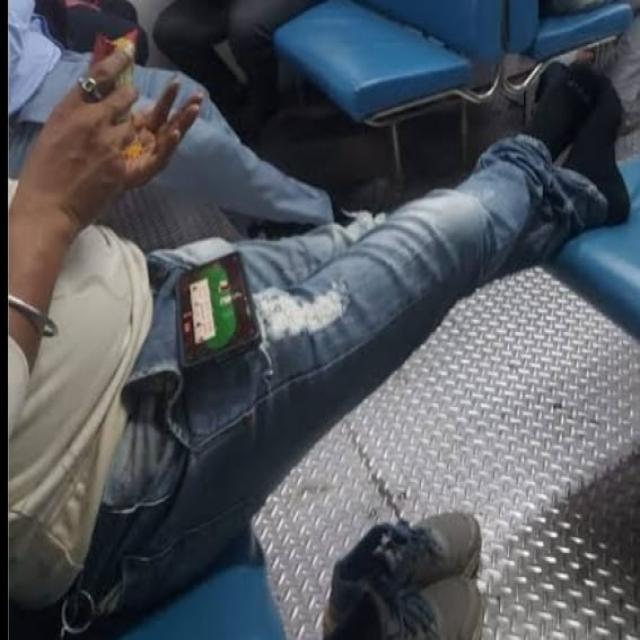Alcohol_Narcotics: (16, 19, 213, 200)
